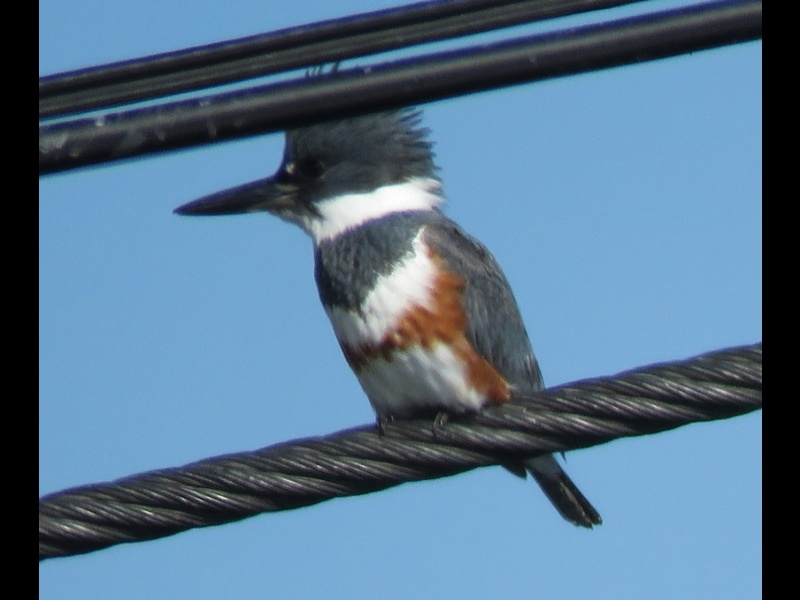kingfisher: (151, 50, 622, 540)
